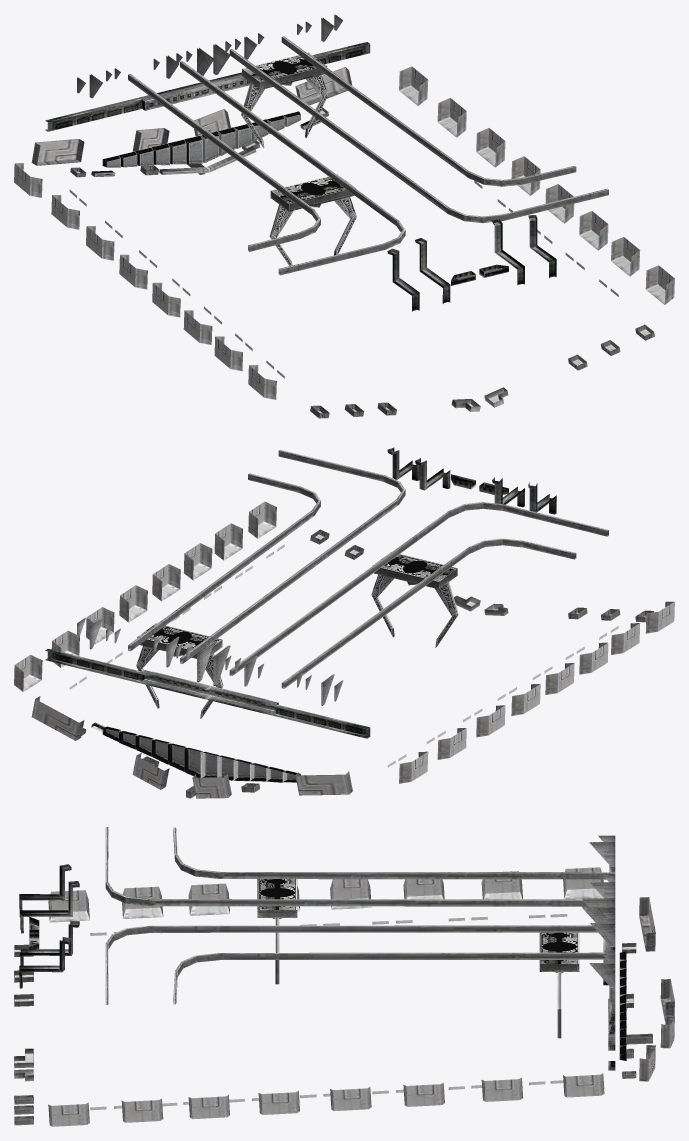
The model's file is star_destroyer_hangar_detail_l1.fbx.
3 renders of one model, top to bottom at view 1: azimuth 30°, elevation 25°; view 2: azimuth 150°, elevation 25°; view 3: azimuth 270°, elevation 25°, orthographic. The views are drawn at different scales.
Parts seen in each view (by area): view 1: mesh_node; view 2: mesh_node; view 3: mesh_node.
Part boxes in pixels (box(x1,y1,x2,y2)): mesh_node: box(14, 14, 674, 418); mesh_node: box(14, 447, 674, 798); mesh_node: box(14, 827, 674, 1126).
Bounding box in the file's own units: 257 × 94.77 × 336.
